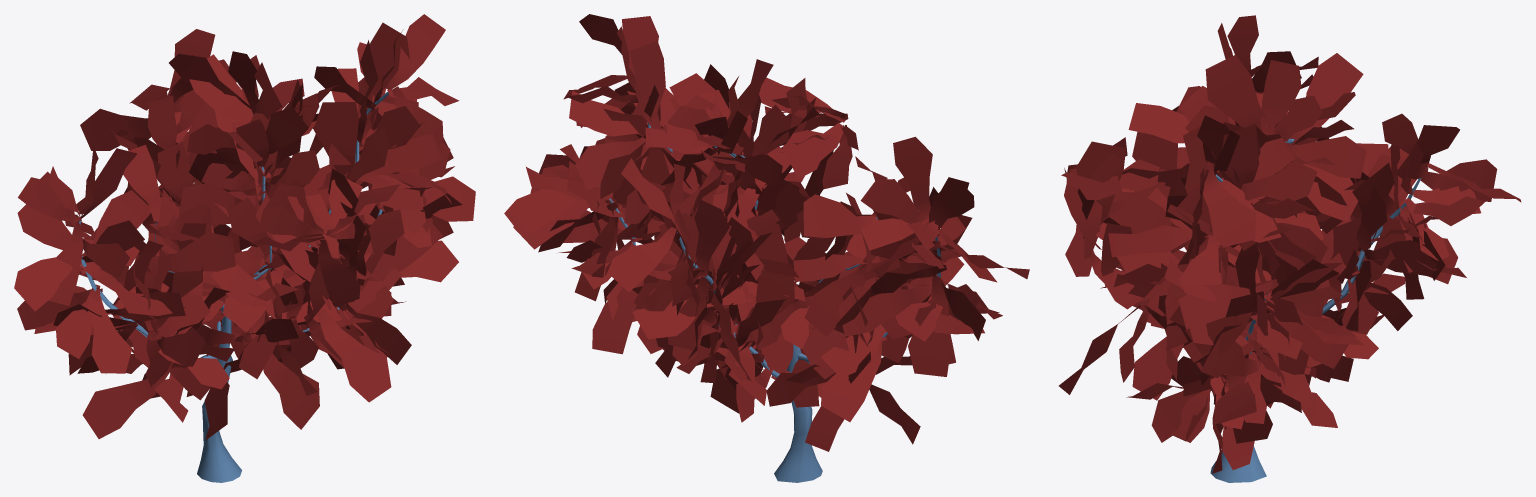
The model's file is MESH_CherryTree02.fbx.
3 renders of one model, left to right at view 1: azimuth 30°, elevation 25°; view 2: azimuth 150°, elevation 25°; view 3: azimuth 270°, elevation 25°, orthographic. The views are drawn at different scales.
Visible parts, largest first — view 1: Mesh_02CherryTreeLOD0; view 2: Mesh_02CherryTreeLOD0; view 3: Mesh_02CherryTreeLOD0.
Boxes of the visible parts, box(x1,y1,x2,y2) form: Mesh_02CherryTreeLOD0: box(14, 14, 475, 482); Mesh_02CherryTreeLOD0: box(504, 14, 1029, 482); Mesh_02CherryTreeLOD0: box(1059, 15, 1521, 482).
Size of what is drawn, in the model's own units: 525 by 436 by 409.
